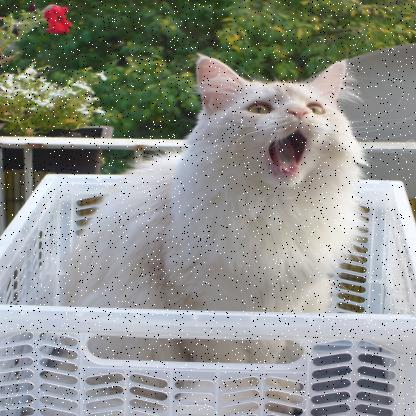cat: (69, 51, 365, 416)
